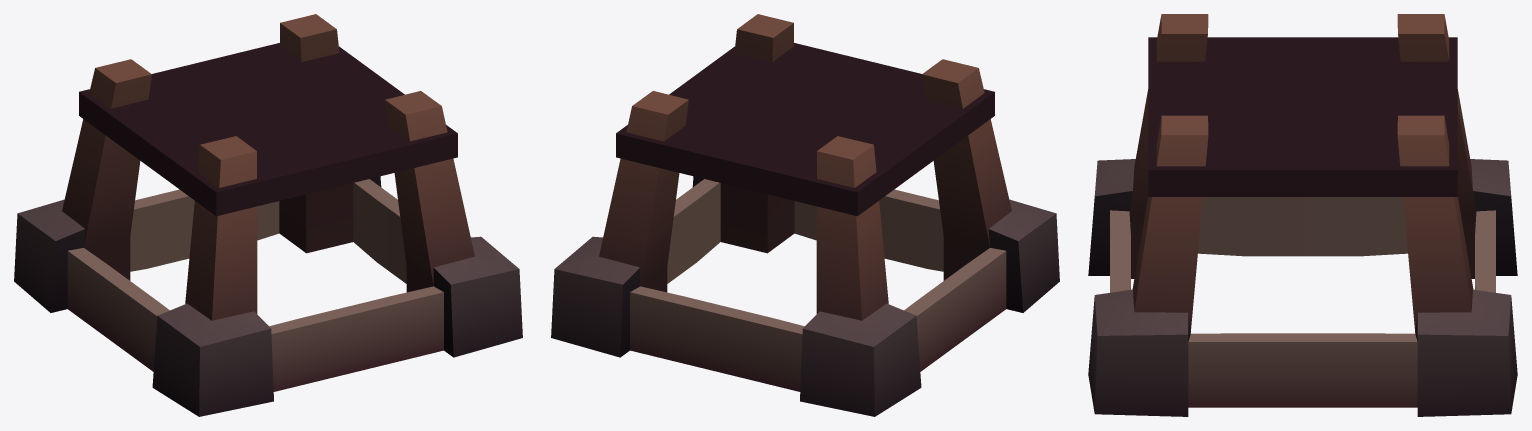
Rendered from Tower2.fbx.
The picture shows the model from 3 angles, left to right: view 1: azimuth 30°, elevation 25°; view 2: azimuth 150°, elevation 25°; view 3: azimuth 270°, elevation 25°; orthographic projection. The views are drawn at different scales.
Parts seen in each view (by area): view 1: Tower2; view 2: Tower2; view 3: Tower2.
Part boxes in pixels (box(x1,y1,x2,y2)): Tower2: box(14, 14, 522, 416); Tower2: box(551, 14, 1059, 416); Tower2: box(1088, 14, 1517, 416).
Bounding box in the file's own units: 251 × 163 × 249.
